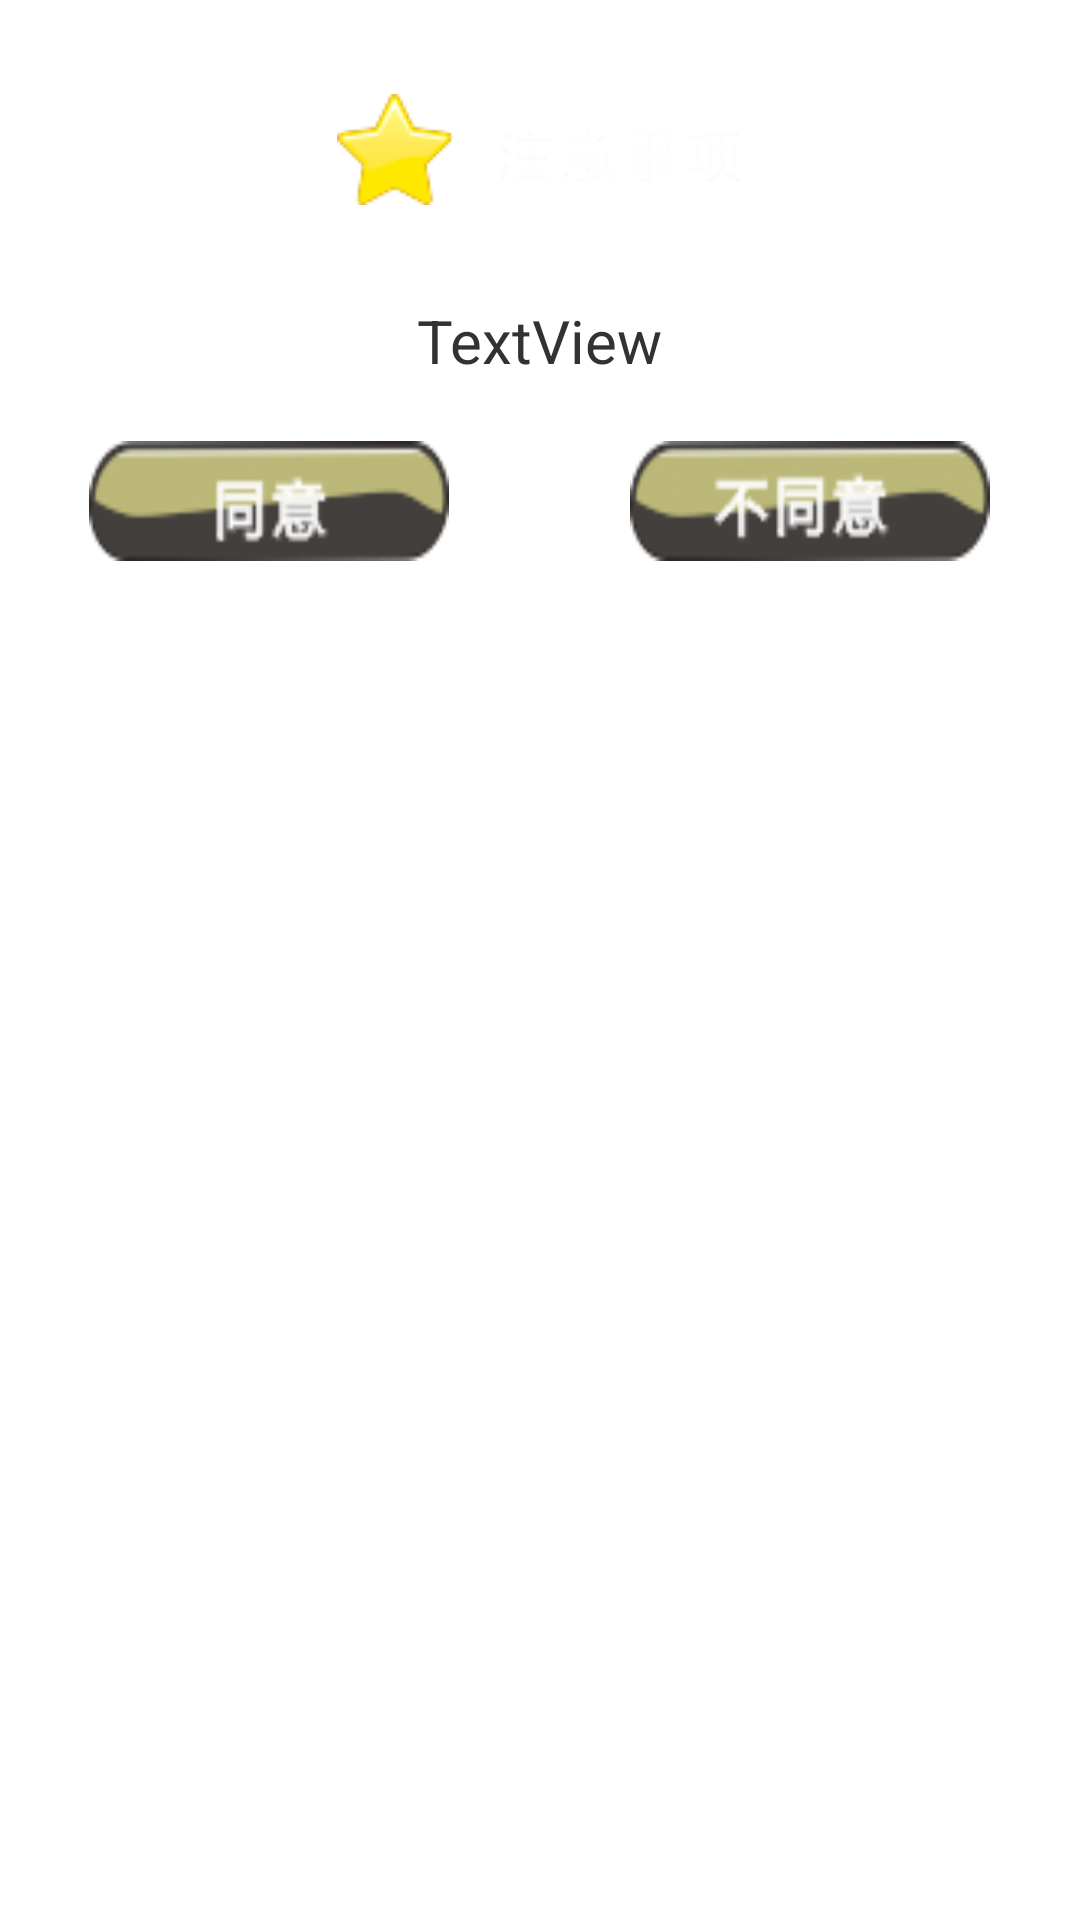

Screen size 1080 x 1920. Icon name, then its box in pixels as (x1, y1, x2, y2):
attentiontitle: (337, 94, 453, 205)
